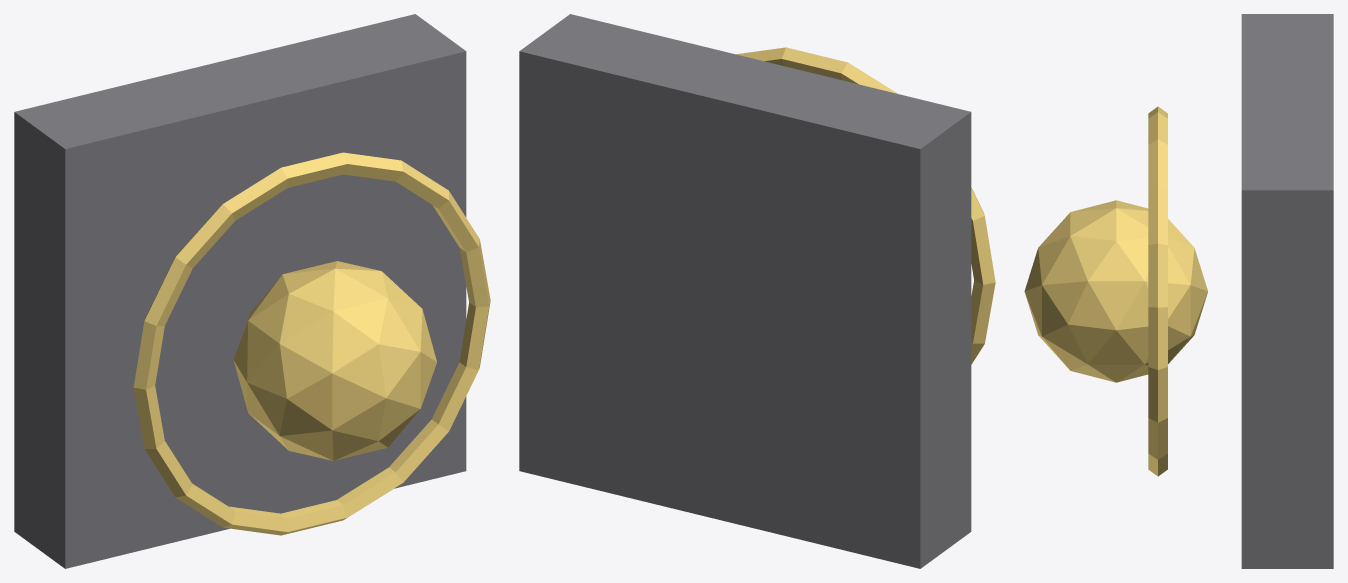
File: sequence_button_blue.glb
3 renders of one model, left to right at view 1: azimuth 30°, elevation 25°; view 2: azimuth 150°, elevation 25°; view 3: azimuth 270°, elevation 25°, orthographic. The views are drawn at different scales.
Visible parts, largest first — view 1: puzzle_base, puzzle_core, rune_ring; view 2: puzzle_base, rune_ring; view 3: puzzle_base, puzzle_core, rune_ring.
Boxes of the visible parts, bbox=[...] form: puzzle_base: bbox=[14, 14, 466, 568]; puzzle_core: bbox=[233, 261, 436, 460]; rune_ring: bbox=[133, 152, 490, 535]; puzzle_base: bbox=[519, 14, 971, 568]; rune_ring: bbox=[736, 47, 995, 364]; puzzle_base: bbox=[1241, 14, 1333, 568]; puzzle_core: bbox=[1024, 200, 1207, 382]; rune_ring: bbox=[1148, 106, 1167, 476].
Size of the model in its own units: 1 by 1 by 0.74.
